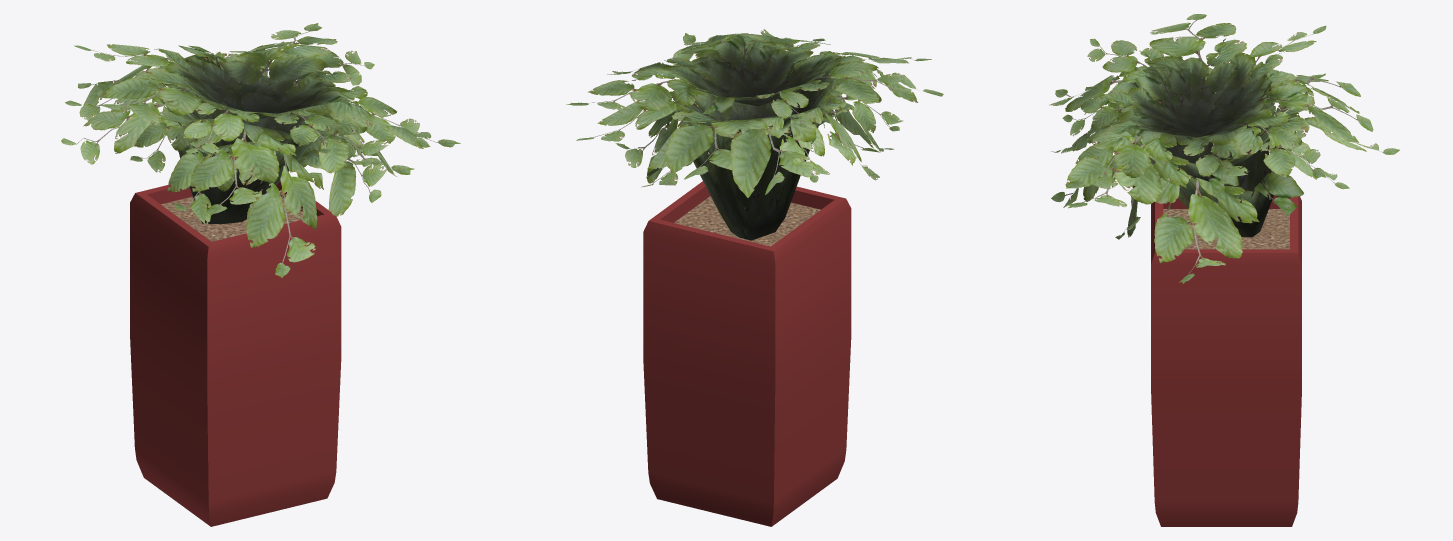
The model's file is planter.fbx.
3 views of the same model, side by side, from view 1: azimuth 30°, elevation 25°; view 2: azimuth 150°, elevation 25°; view 3: azimuth 270°, elevation 25° (orthographic). The views are drawn at different scales.
Parts seen in each view (by area): view 1: polySurface4, polySurface7, polySurface6, polySurface5; view 2: polySurface4, polySurface7, polySurface6, polySurface5; view 3: polySurface4, polySurface7, polySurface6, polySurface5.
Boxes of the visible parts, x1,y1,x2,y2 form: polySurface4: (130,181,341,526); polySurface7: (74,23,430,153); polySurface6: (61,51,414,277); polySurface5: (65,41,460,214); polySurface4: (643,181,851,526); polySurface7: (566,35,931,127); polySurface6: (615,83,893,240); polySurface5: (576,29,943,182); polySurface4: (1151,195,1301,526); polySurface7: (1062,14,1326,189); polySurface6: (1051,65,1399,283); polySurface5: (1049,67,1373,208).
Bounding box in the file's own units: 116 × 129 × 116.
Materials: 2 (2 with a texture image).
